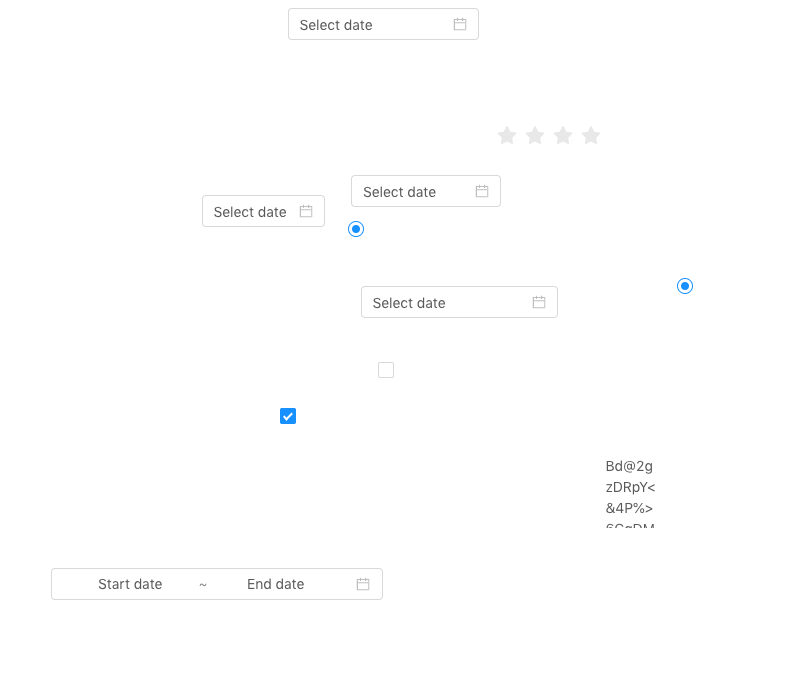Checkbox: (378, 359, 394, 380), (280, 405, 296, 426)
DatePicker: (361, 286, 558, 318), (288, 8, 479, 40), (351, 175, 501, 207), (202, 195, 325, 227)
Radio: (677, 275, 693, 295), (348, 218, 364, 238)
RangePicker: (51, 568, 752, 600)
Rate: (497, 119, 617, 151)
Text: (606, 455, 657, 528)
